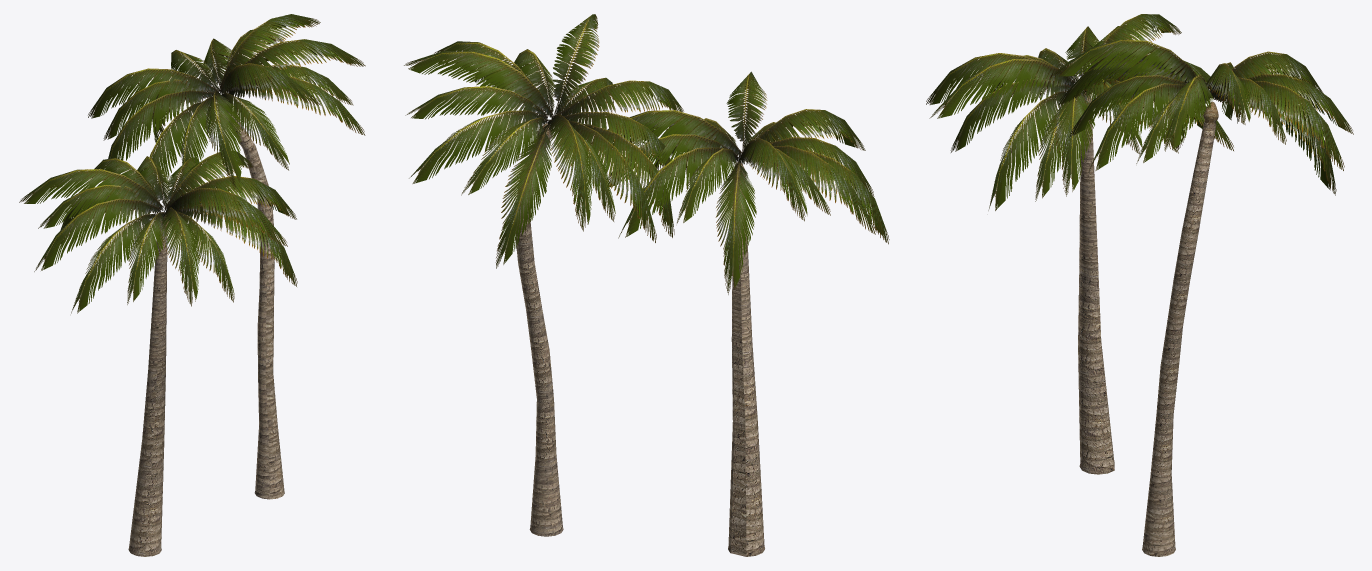
Rendered from tree.fbx.
3 renders of one model, left to right at view 1: azimuth 30°, elevation 25°; view 2: azimuth 150°, elevation 25°; view 3: azimuth 270°, elevation 25°, orthographic. The views are drawn at different scales.
Visible parts, largest first — view 1: TR2, TR1; view 2: TR1, TR2; view 3: TR1, TR2.
Boxes of the visible parts, <box> form: TR2: <box>19,151,297,556</box>; TR1: <box>88,14,365,499</box>; TR1: <box>404,14,683,536</box>; TR2: <box>589,71,889,556</box>; TR1: <box>1051,39,1353,556</box>; TR2: <box>926,14,1233,474</box>.
Size of the model in its own units: 564 by 645 by 511.
